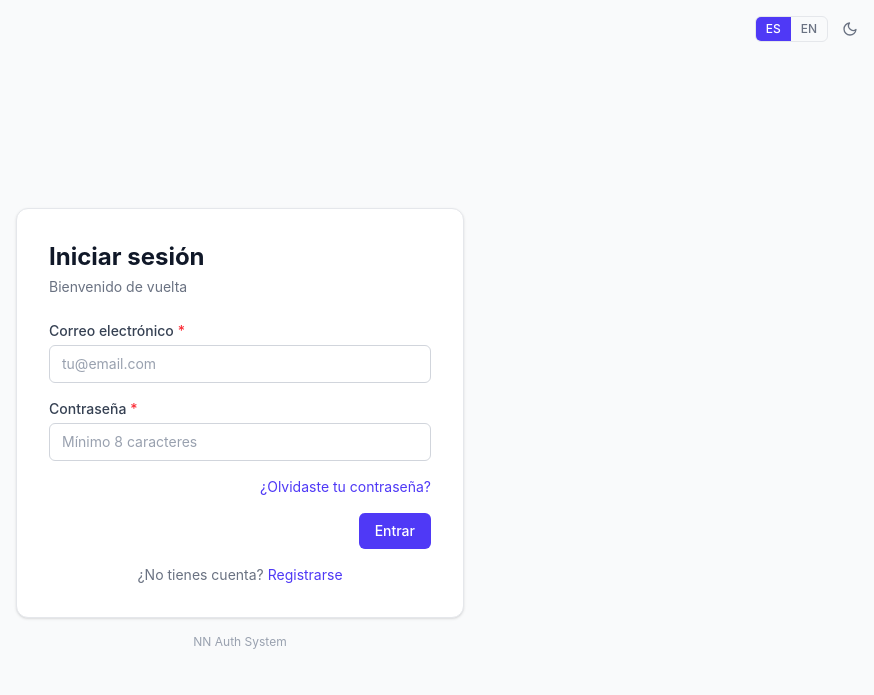
Scenario: LoginPage › does NOT navigate to dashboard on failed login
Type "x@x.com" into the field labelled "Correo electrónico*" at (240, 364), box [49,345,431,383]
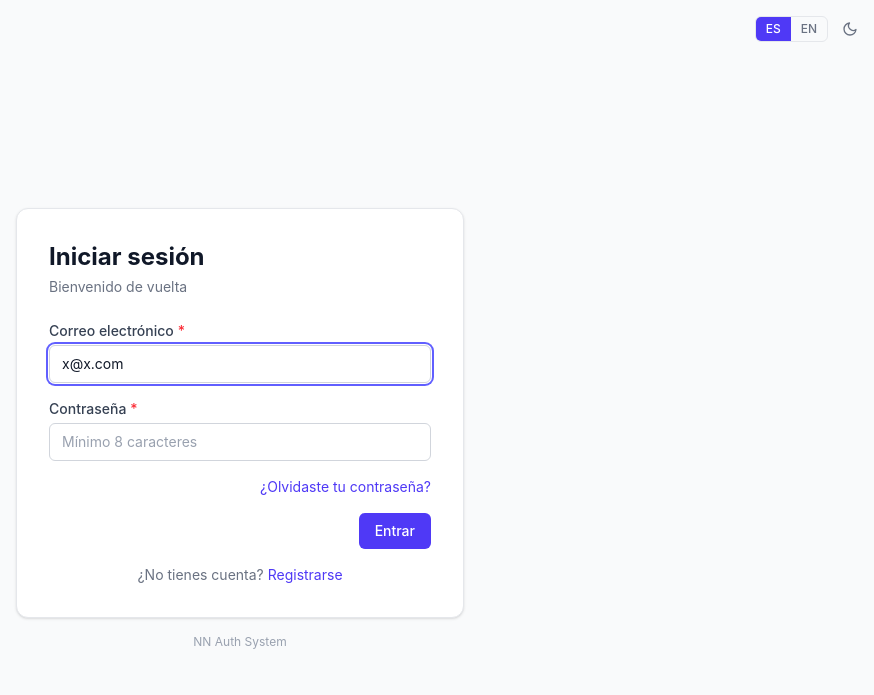
Type "pass" into the password field labelled "Contraseña*" at (240, 442), box [49,423,431,461]
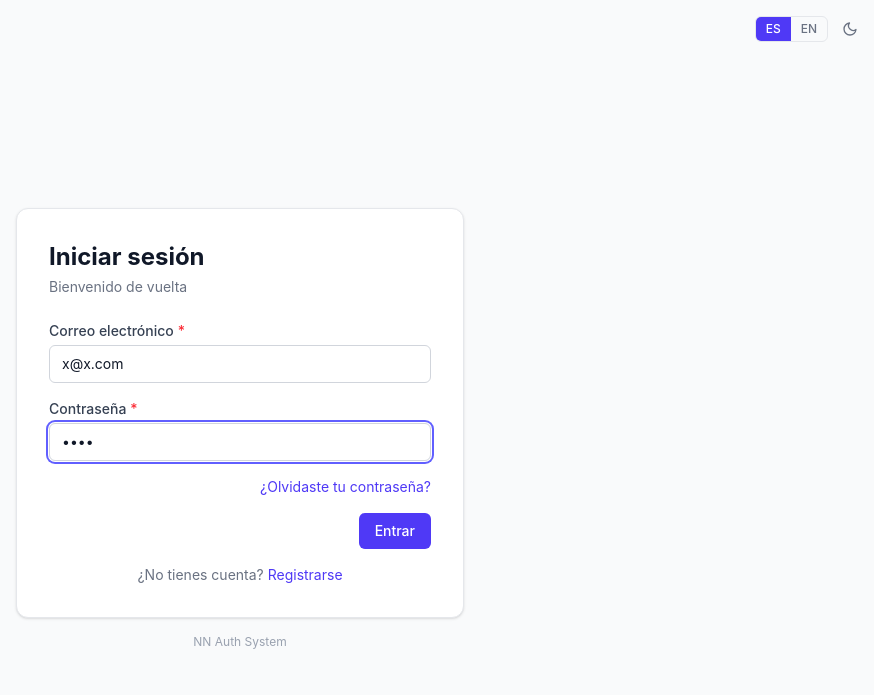
Click the button "Entrar" at (395, 531), box [359,513,431,549]
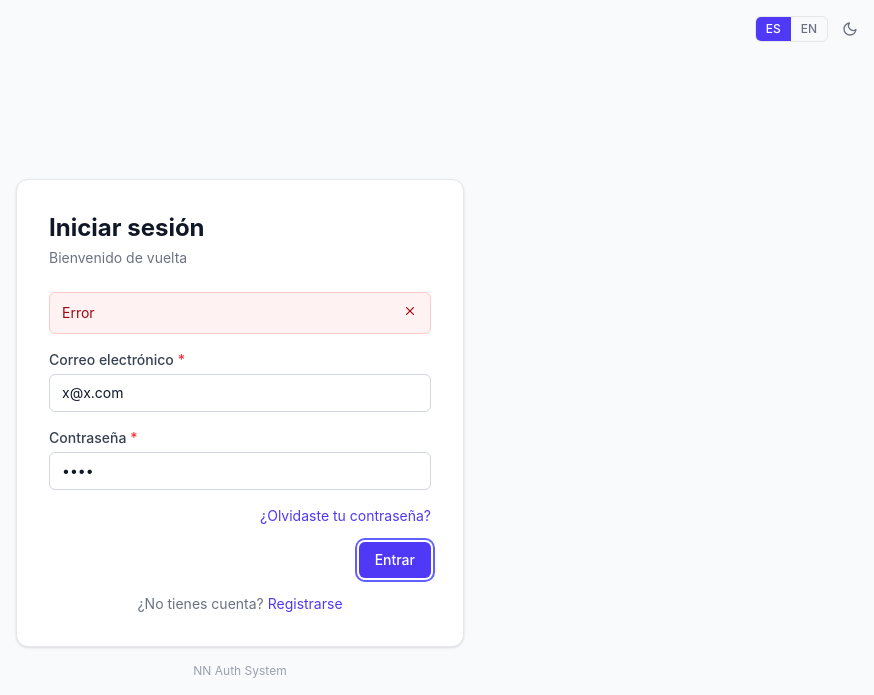
Expected: the message "Error" is shown, [49,292,431,334]
